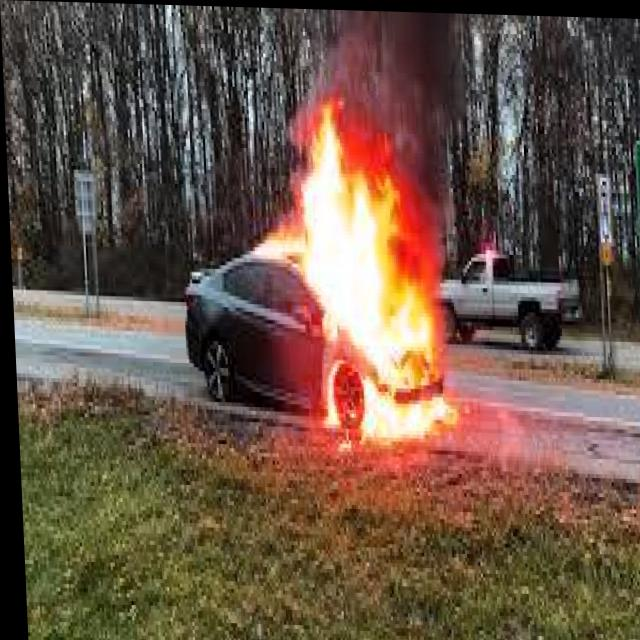fire: (265, 109, 473, 453)
